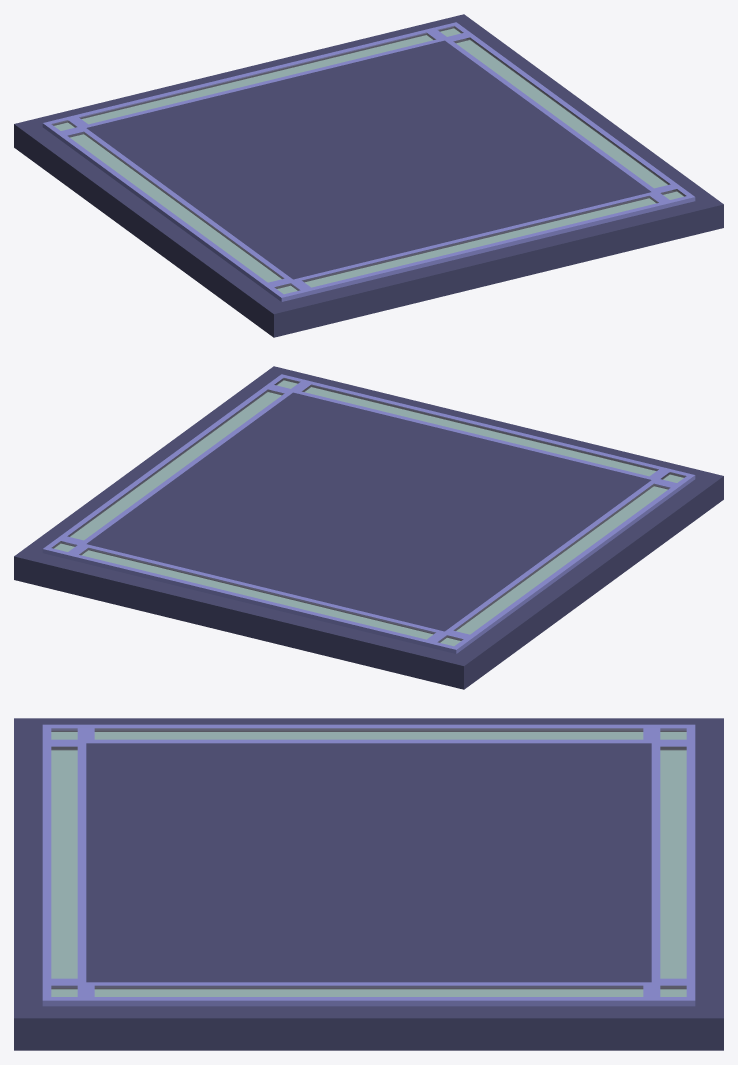
The model's file is Floor_Light.fbx.
3 renders of one model, top to bottom at view 1: azimuth 30°, elevation 25°; view 2: azimuth 150°, elevation 25°; view 3: azimuth 270°, elevation 25°, orthographic. The views are drawn at different scales.
Parts seen in each view (by area): view 1: Floor_Light_Tile; view 2: Floor_Light_Tile; view 3: Floor_Light_Tile.
Part boxes in pixels (<box>): Floor_Light_Tile: <box>14,14,723,337</box>; Floor_Light_Tile: <box>14,366,723,689</box>; Floor_Light_Tile: <box>14,718,723,1050</box>.
Bounding box in the file's own units: 2 × 0.1177 × 2.
